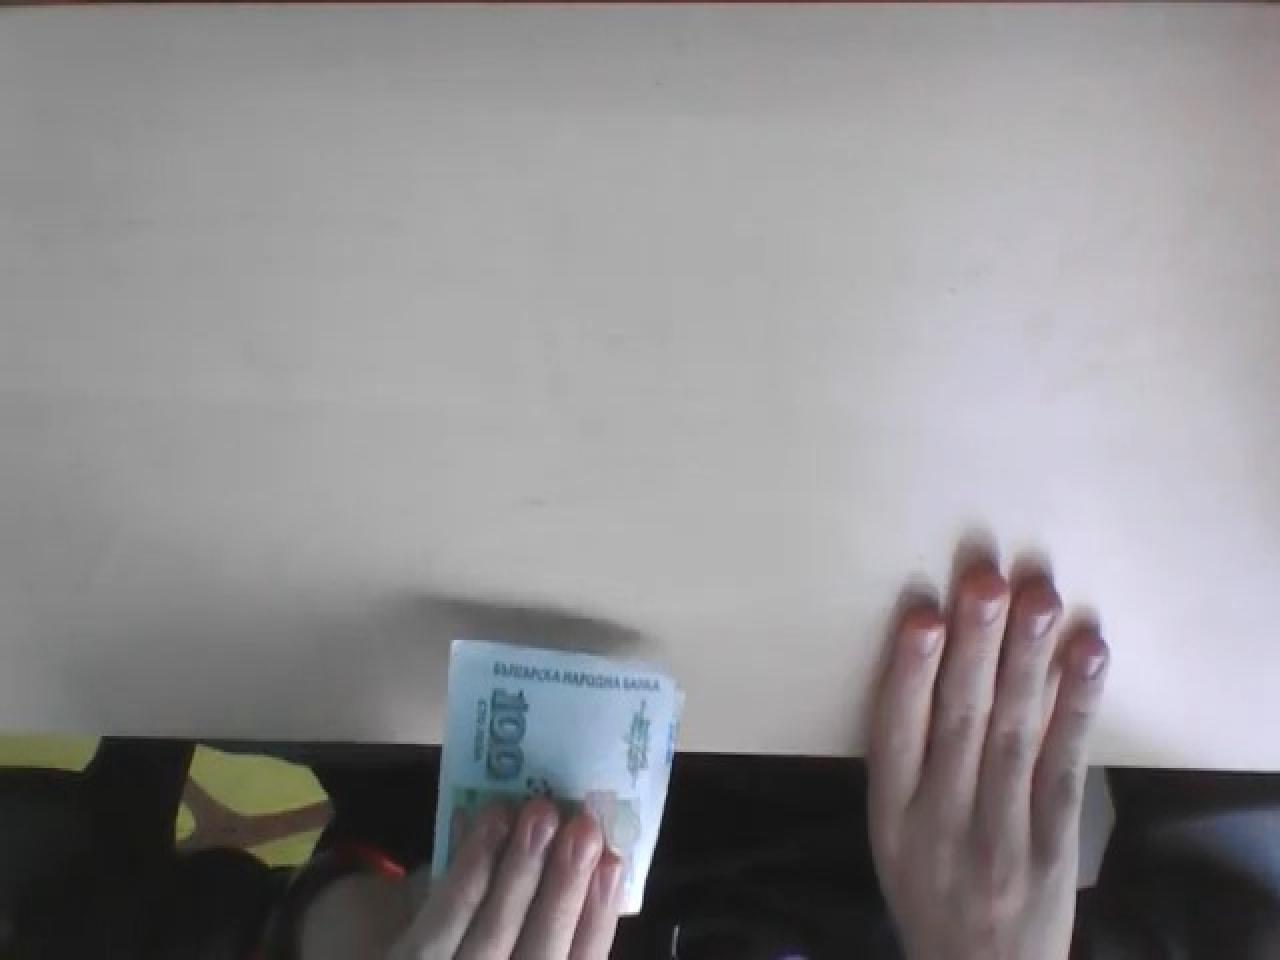100leva: (432, 637, 686, 923)
